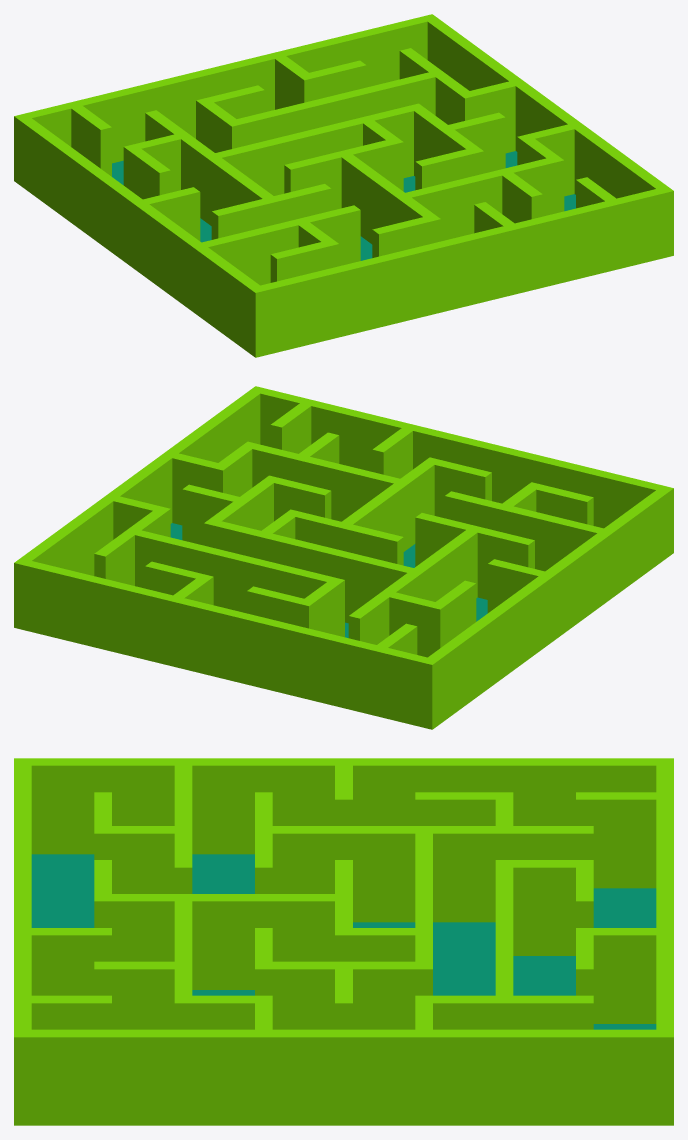
The model's file is Level8Ground.FBX.
3 views of the same model, one above another, from view 1: azimuth 30°, elevation 25°; view 2: azimuth 150°, elevation 25°; view 3: azimuth 270°, elevation 25° (orthographic). The views are drawn at different scales.
Parts seen in each view (by area): view 1: Labyrinth002; view 2: Labyrinth002; view 3: Labyrinth002.
Part boxes in pixels (left/top/right/bottom): Labyrinth002: left=14, top=14, right=673, bottom=357; Labyrinth002: left=14, top=386, right=673, bottom=729; Labyrinth002: left=14, top=758, right=673, bottom=1125.
Size of the model in its own units: 189 by 28 by 189.
